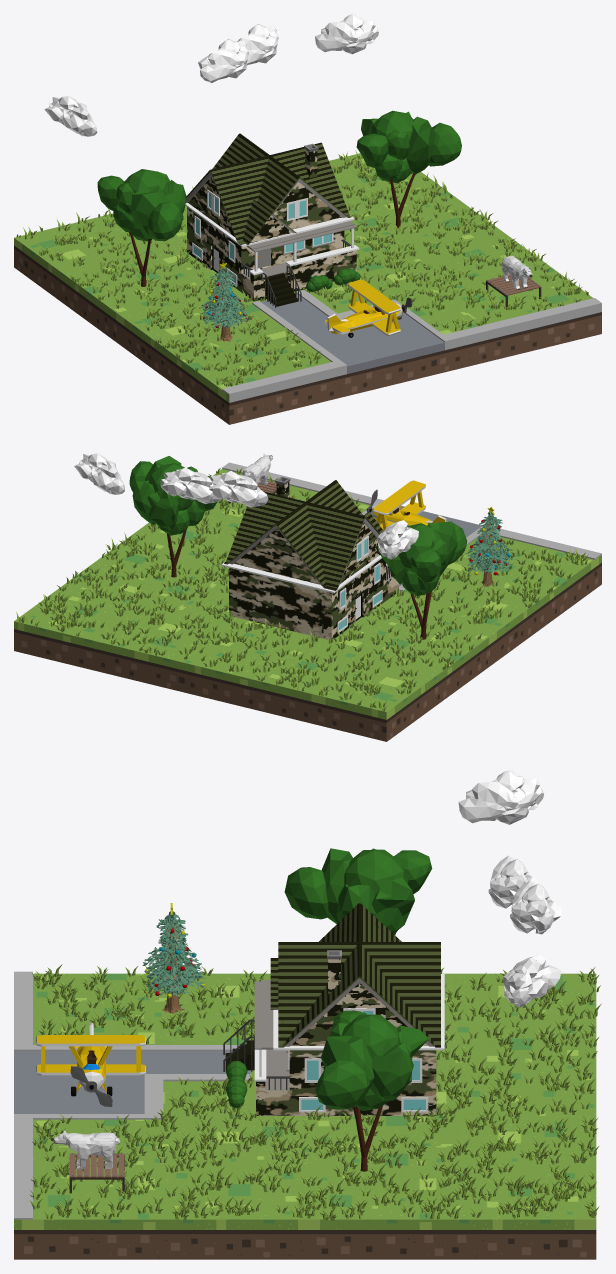
The picture shows the model from 3 angles, top to bottom: view 1: azimuth 30°, elevation 25°; view 2: azimuth 150°, elevation 25°; view 3: azimuth 270°, elevation 25°; orthographic projection. The views are drawn at different scales.
Visible parts, largest first — view 1: Cube.006, Cube.001, Circle.012_Grass_0.192, Cube.007, tree, tree.001, VEHICLES_AIRPLANE, OBJRANDOM_CHRISTMAS_TREE, ANIMAL_OSO_POLAR, Cube.009; view 2: Cube.006, Cube.001, Circle.012_Grass_0.192, Cube.007, tree.001, tree, OBJRANDOM_CHRISTMAS_TREE, VEHICLES_AIRPLANE, ANIMAL_OSO_POLAR; view 3: Cube.006, Circle.012_Grass_0.192, Cube.001, tree, Cube.007, tree.001, VEHICLES_AIRPLANE, OBJRANDOM_CHRISTMAS_TREE, ANIMAL_OSO_POLAR, Cube.009.
Boxes of the visible parts, <box> form: Cube.006: <box>14,153,601,424</box>; Cube.001: <box>185,133,359,307</box>; Circle.012_Grass_0.192: <box>16,150,588,386</box>; Cube.007: <box>44,14,378,136</box>; tree: <box>356,110,461,228</box>; tree.001: <box>97,169,186,286</box>; VEHICLES_AIRPLANE: <box>325,279,412,337</box>; OBJRANDOM_CHRISTMAS_TREE: <box>199,262,249,341</box>; ANIMAL_OSO_POLAR: <box>502,255,532,290</box>; Cube.009: <box>486,274,541,306</box>; Cube.006: <box>14,462,601,741</box>; Cube.001: <box>221,476,398,640</box>; Circle.012_Grass_0.192: <box>16,468,588,711</box>; Cube.007: <box>74,453,418,559</box>; tree.001: <box>375,521,467,639</box>; tree: <box>129,456,216,577</box>; OBJRANDOM_CHRISTMAS_TREE: <box>465,506,512,587</box>; VEHICLES_AIRPLANE: <box>366,480,447,530</box>; ANIMAL_OSO_POLAR: <box>242,453,272,485</box>; Cube.006: <box>14,971,596,1259</box>; Circle.012_Grass_0.192: <box>29,964,601,1220</box>; Cube.001: <box>223,903,444,1115</box>; tree: <box>315,1010,428,1171</box>; Cube.007: <box>458,770,561,1007</box>; tree.001: <box>284,848,432,934</box>; VEHICLES_AIRPLANE: <box>36,1023,145,1106</box>; OBJRANDOM_CHRISTMAS_TREE: <box>142,903,205,1014</box>; ANIMAL_OSO_POLAR: <box>50,1130,119,1169</box>; Cube.009: <box>69,1153,124,1193</box>.
Size of the model in its own units: 4071 by 2153 by 4040.
42 materials, 5 textured.
